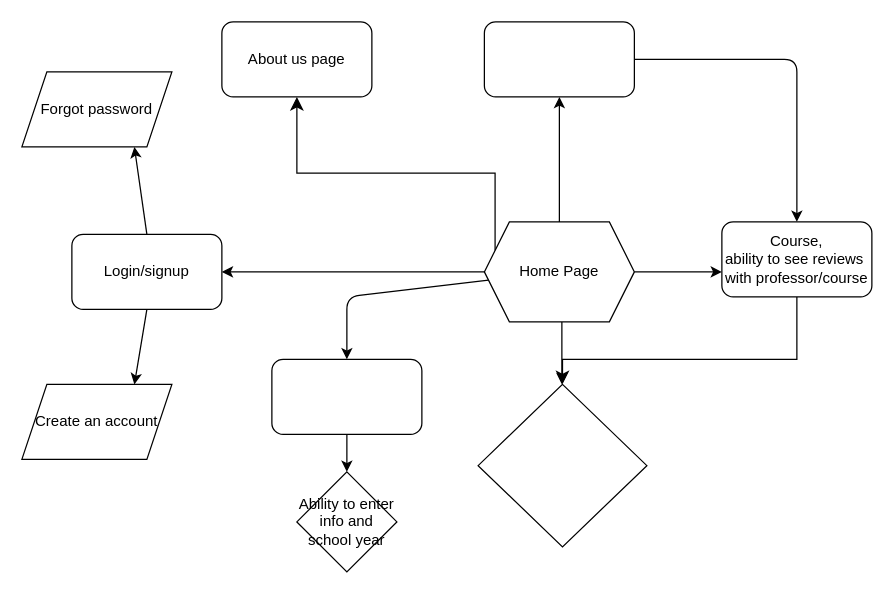
This 894x594 diagram has some shape labels left out. The shapes that lost their labels are listed below. From the top down, each one's box as (x1, y1, x2, y2) in pixels, then its label:
(483, 21, 634, 97): Review: scale up to 5, 5 being the highes, with context
(271, 358, 422, 434): Contact us page
(477, 383, 647, 547): Perdictive search for courses already reviewed
